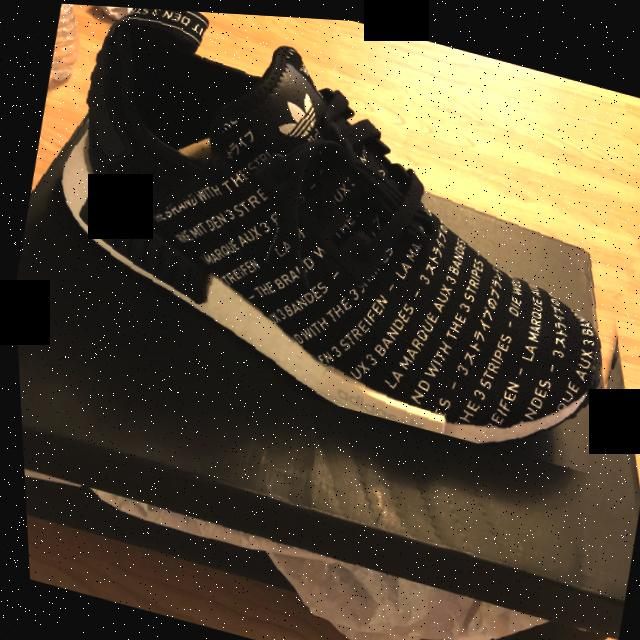shoe: (0, 0, 640, 473)
